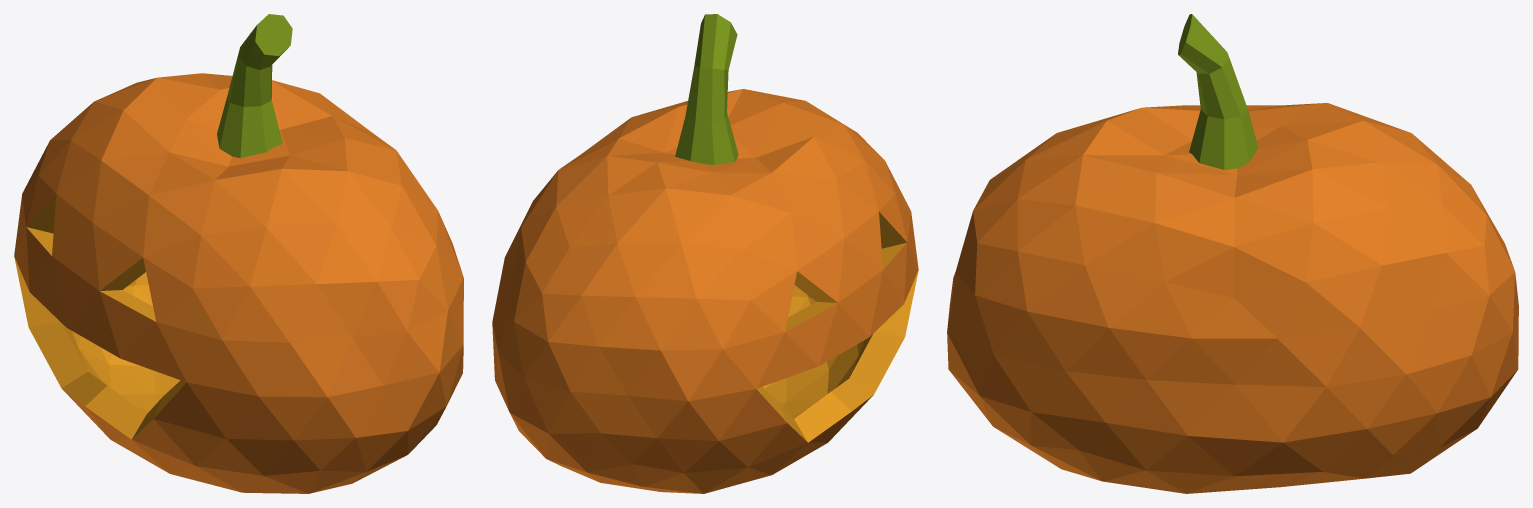
File: halloween_pumpkin.fbx
The picture shows the model from 3 angles, left to right: view 1: azimuth 30°, elevation 25°; view 2: azimuth 150°, elevation 25°; view 3: azimuth 270°, elevation 25°; orthographic projection. The views are drawn at different scales.
Visible parts, largest first — view 1: Cylinder.697; view 2: Cylinder.697; view 3: Cylinder.697.
Part boxes in pixels (x1,y1,x2,y2): Cylinder.697: [14, 14, 463, 493]; Cylinder.697: [492, 14, 918, 493]; Cylinder.697: [947, 14, 1518, 493].
Size of the model in its own units: 2124 by 2588 by 2937.
